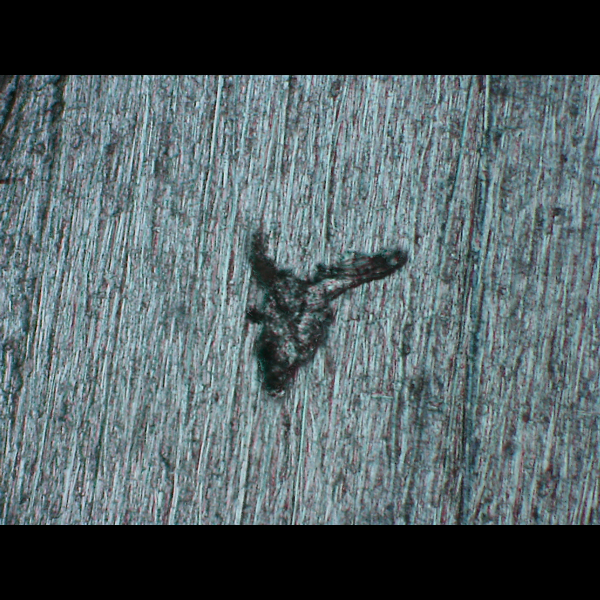d: (237, 222, 416, 401)
